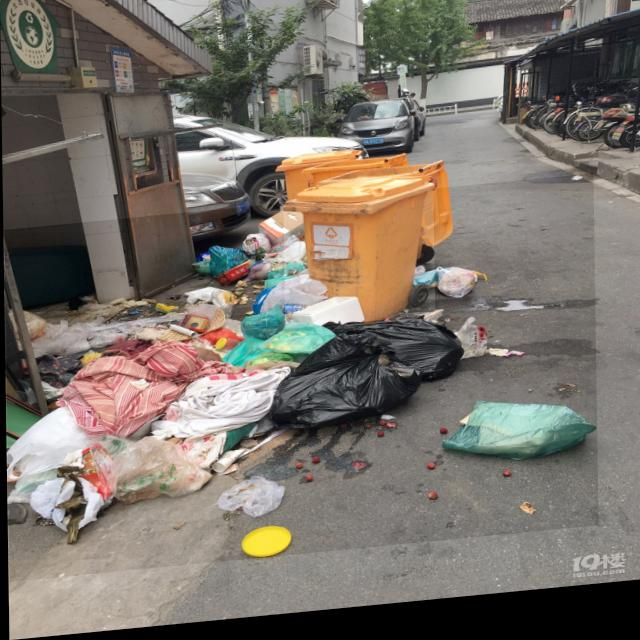garbage: (4, 185, 597, 582)
garbage_bin: (282, 179, 434, 335)
